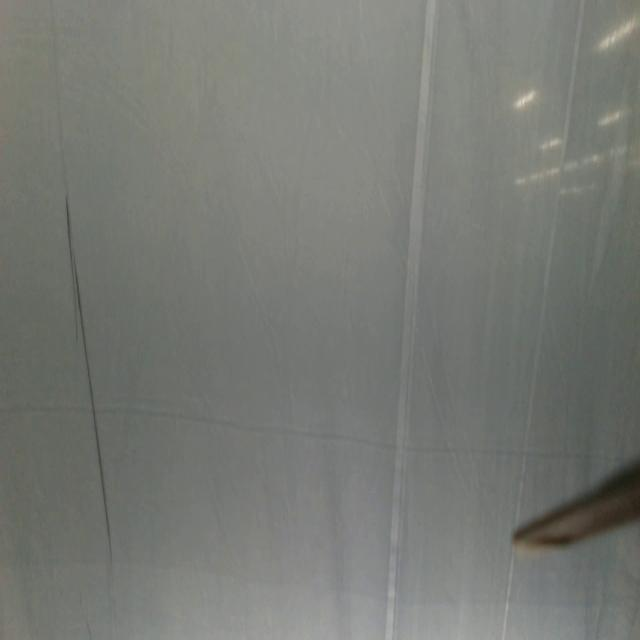color bleeding: (1, 403, 511, 607)
crease: (385, 0, 439, 638), (519, 0, 586, 494), (63, 191, 113, 568), (501, 553, 517, 640)
